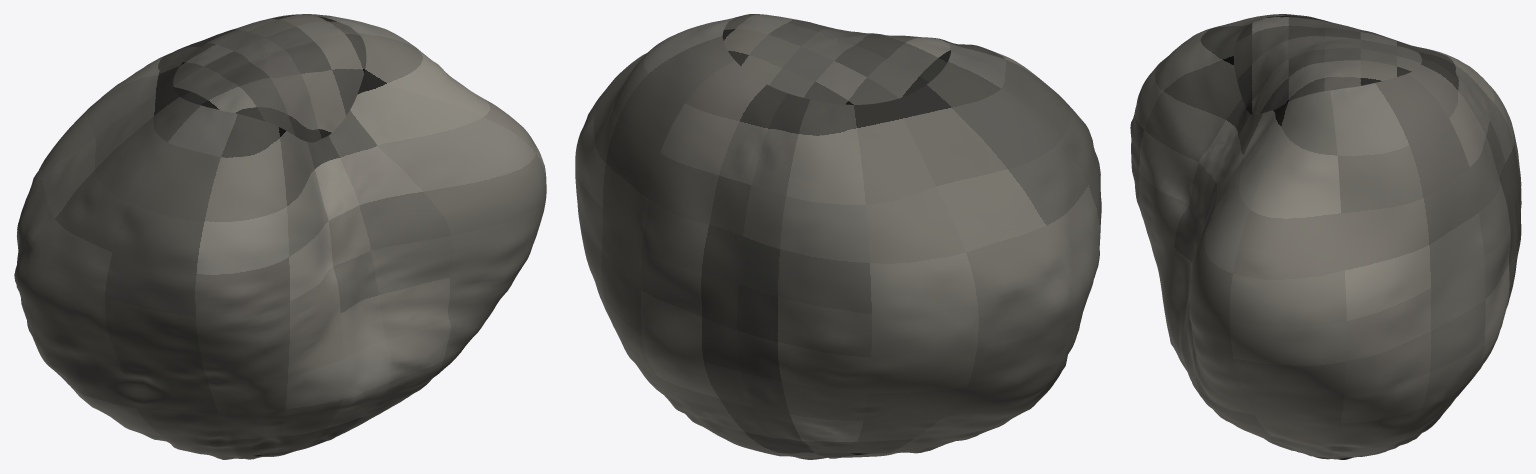
File: deimos.glb
3 renders of one model, left to right at view 1: azimuth 30°, elevation 25°; view 2: azimuth 150°, elevation 25°; view 3: azimuth 270°, elevation 25°, orthographic. The views are drawn at different scales.
Parts seen in each view (by area): view 1: deimos; view 2: deimos; view 3: deimos.
Part boxes in pixels (x1,y1,x2,y2): deimos: [14, 14, 546, 459]; deimos: [575, 14, 1101, 459]; deimos: [1130, 14, 1521, 459].
Bounding box in the file's own units: 15.01 × 11.87 × 10.51.
Materials: 1 (1 with a texture image).
